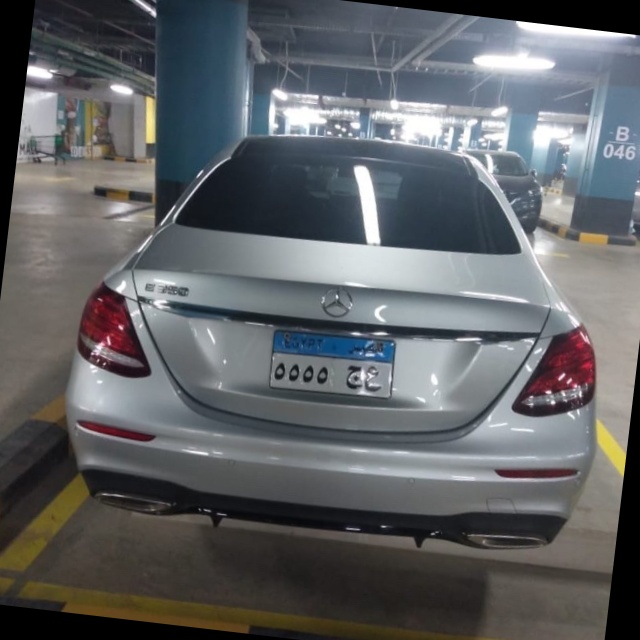License Plate: (267, 324, 400, 404)
